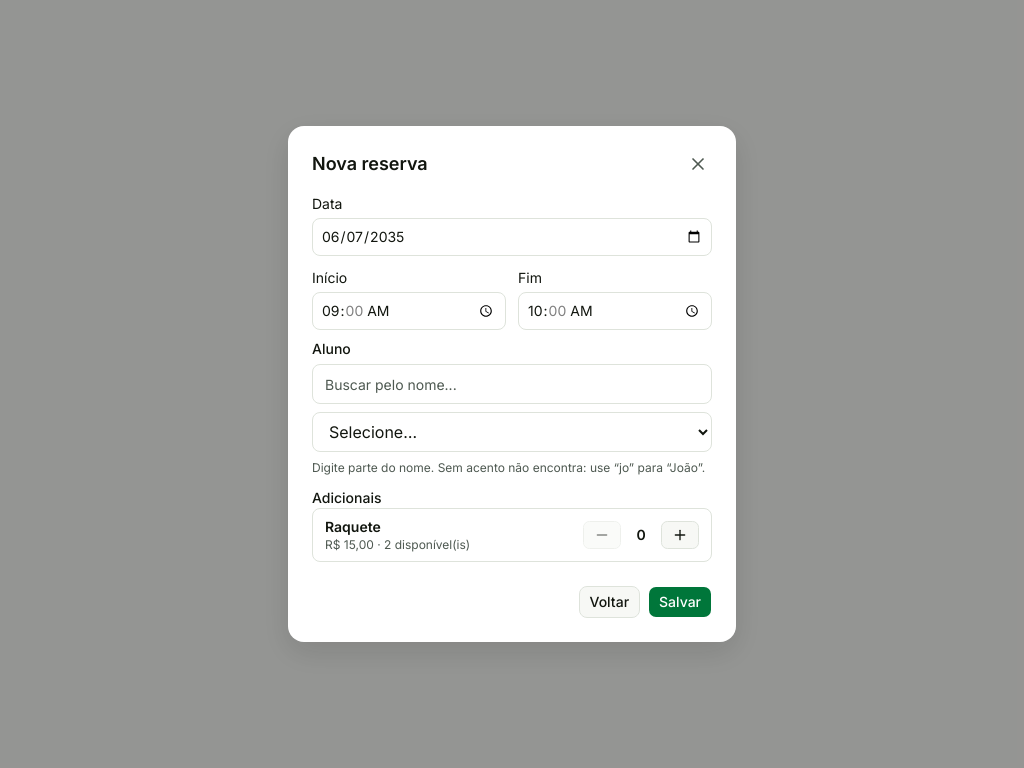
AgendaSemanaAcoes — SPEC-054/D12 › LIM-054j: `409 ESTOQUE_ESGOTADO` mostra a mensagem e relê a disponibilidade
Select "Ana" in the dropdown labelled "Aluno": (512,432) [312,412,712,452]
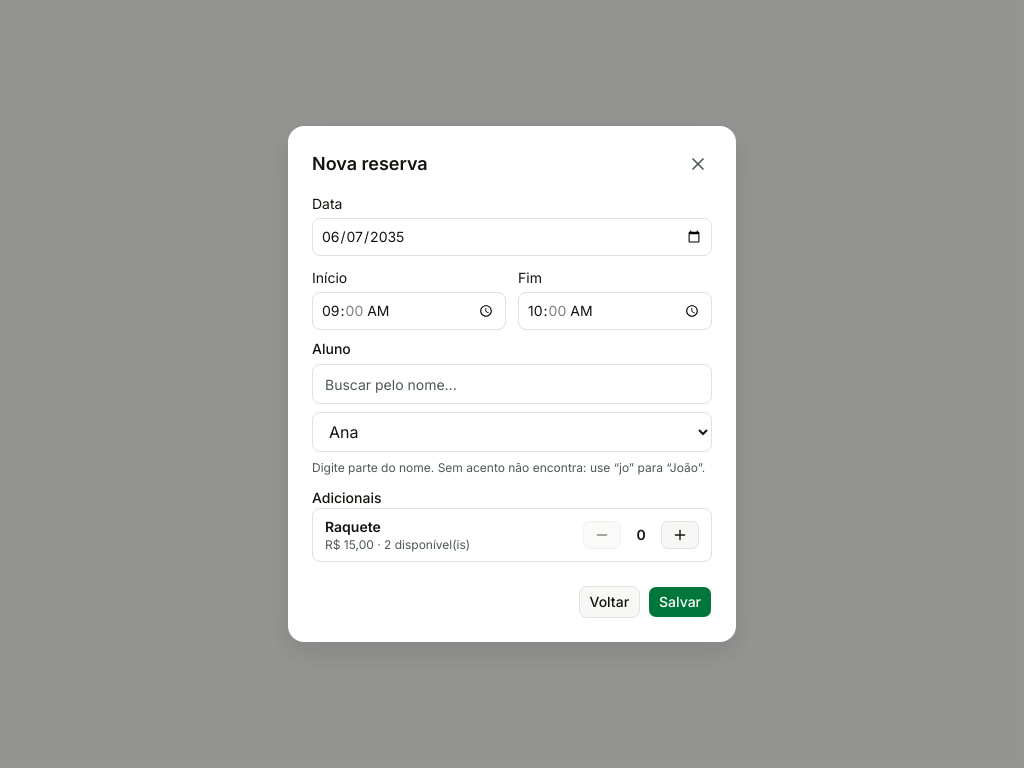
Click the button named "Mais Raquete": (680,535) [661,521,699,549]
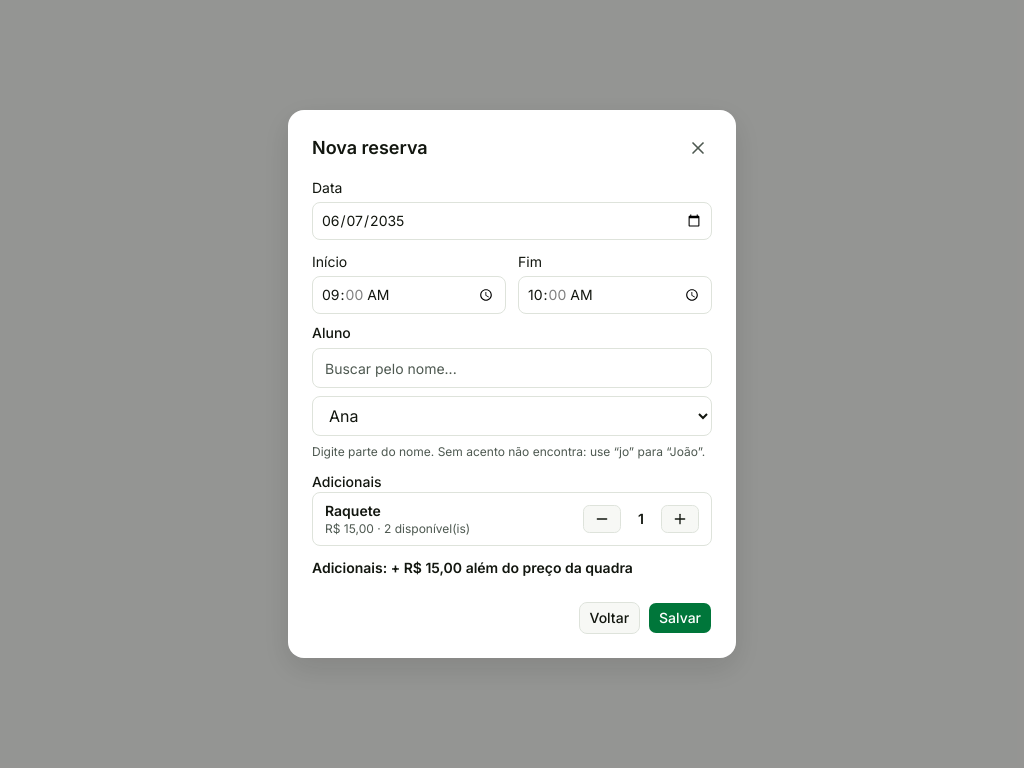
Click the button "Salvar": (680,618) [648,602,712,634]
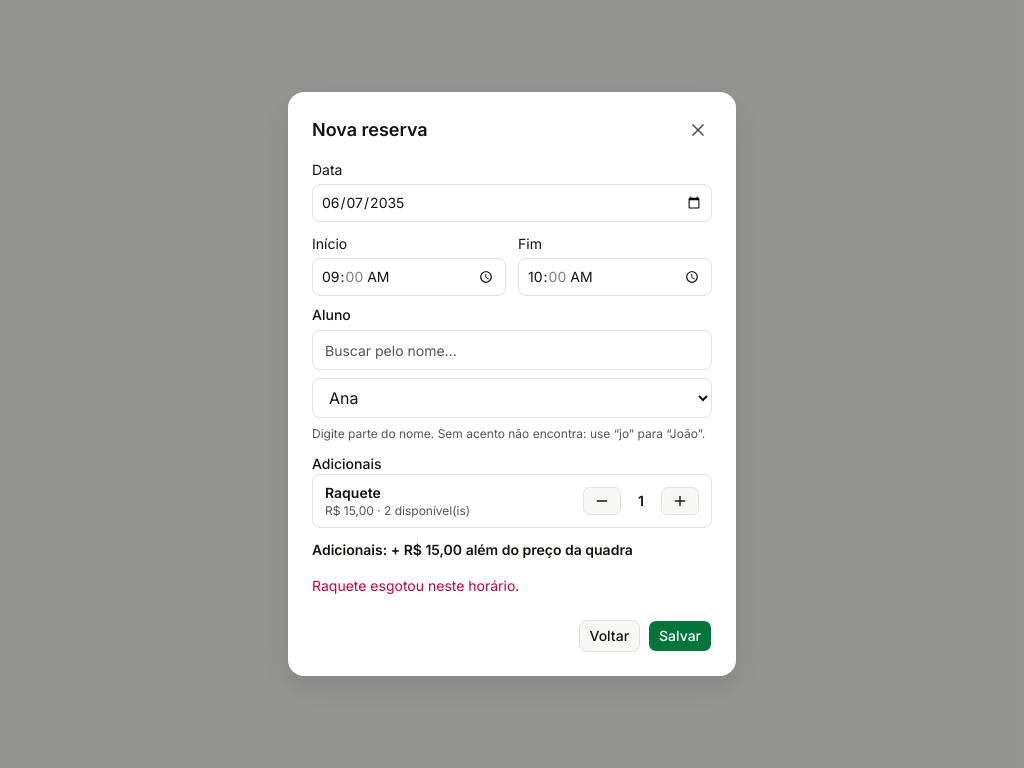
Expected: the text "Raquete esgotou neste horário." is shown, [312,577,519,594]
